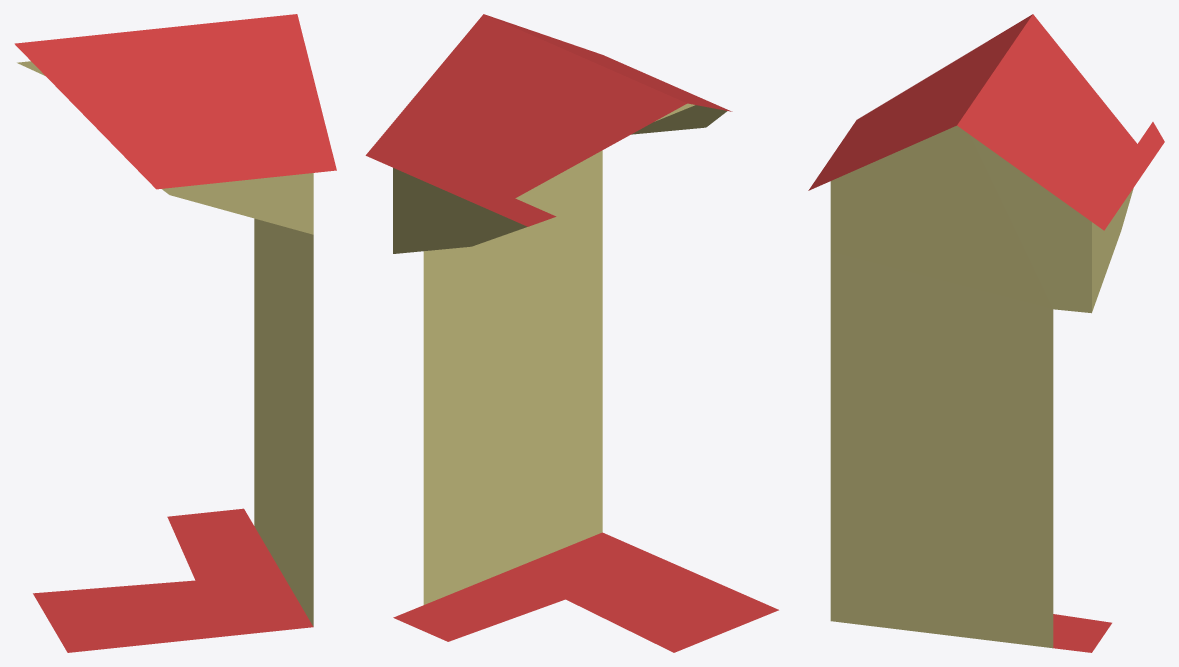
The picture shows the model from 3 angles, left to right: view 1: azimuth 30°, elevation 25°; view 2: azimuth 150°, elevation 25°; view 3: azimuth 270°, elevation 25°; orthographic projection. The views are drawn at different scales.
Size of the model in its own units: 9 by 9.83 by 15.77.
